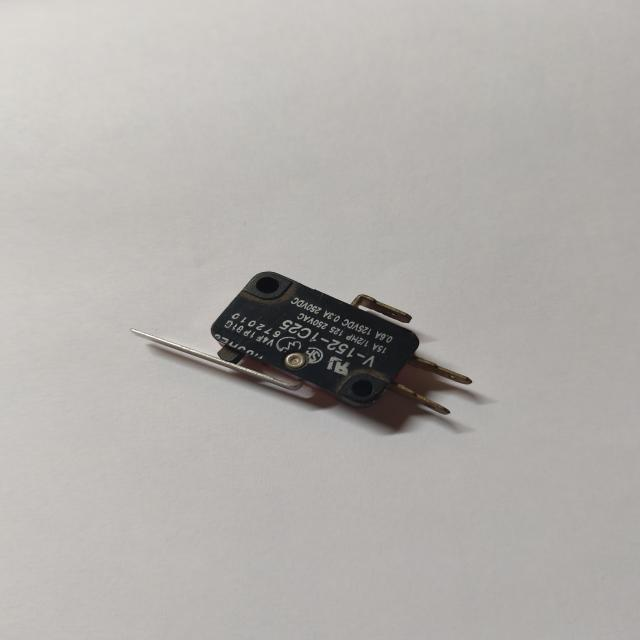switch: (129, 260, 489, 441)
